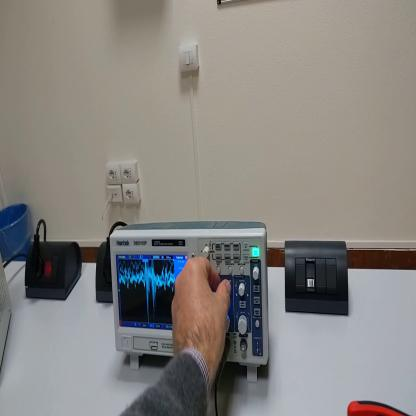hand: (170, 254, 232, 381)
oscilloscope: (110, 221, 270, 384)
pliers: (348, 398, 413, 416)
power supply: (1, 245, 15, 383)
socket: (27, 236, 82, 304), (97, 242, 114, 304)
